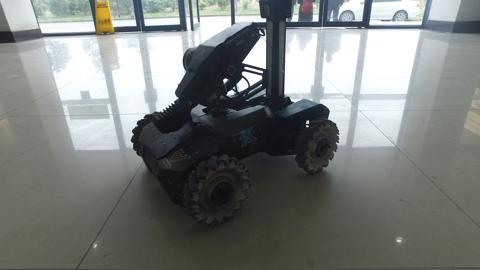car: (331, 1, 422, 24)
chariot: (130, 1, 340, 227)
